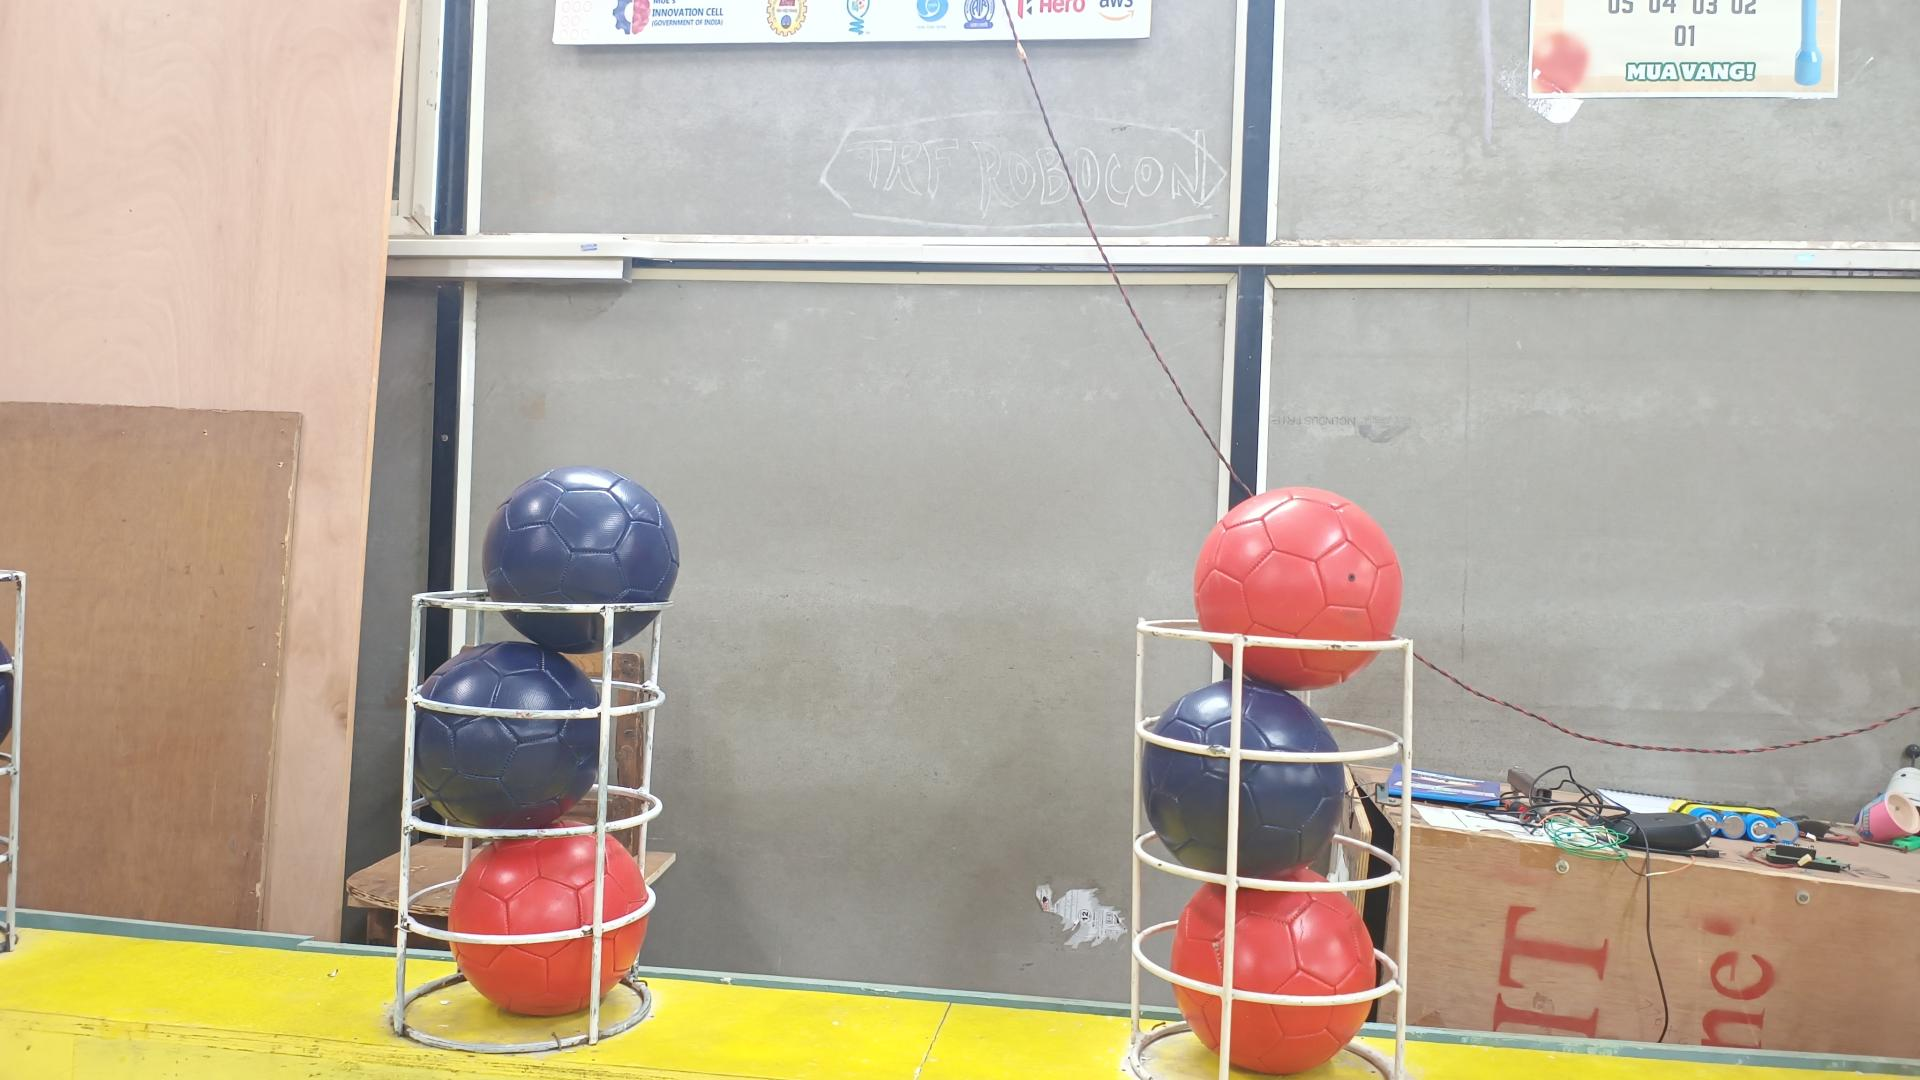dhoka: (1139, 683, 1349, 881), (480, 467, 679, 654), (414, 641, 603, 828)
laale: (1192, 484, 1403, 687), (1170, 877, 1383, 1068), (451, 823, 650, 1011)
